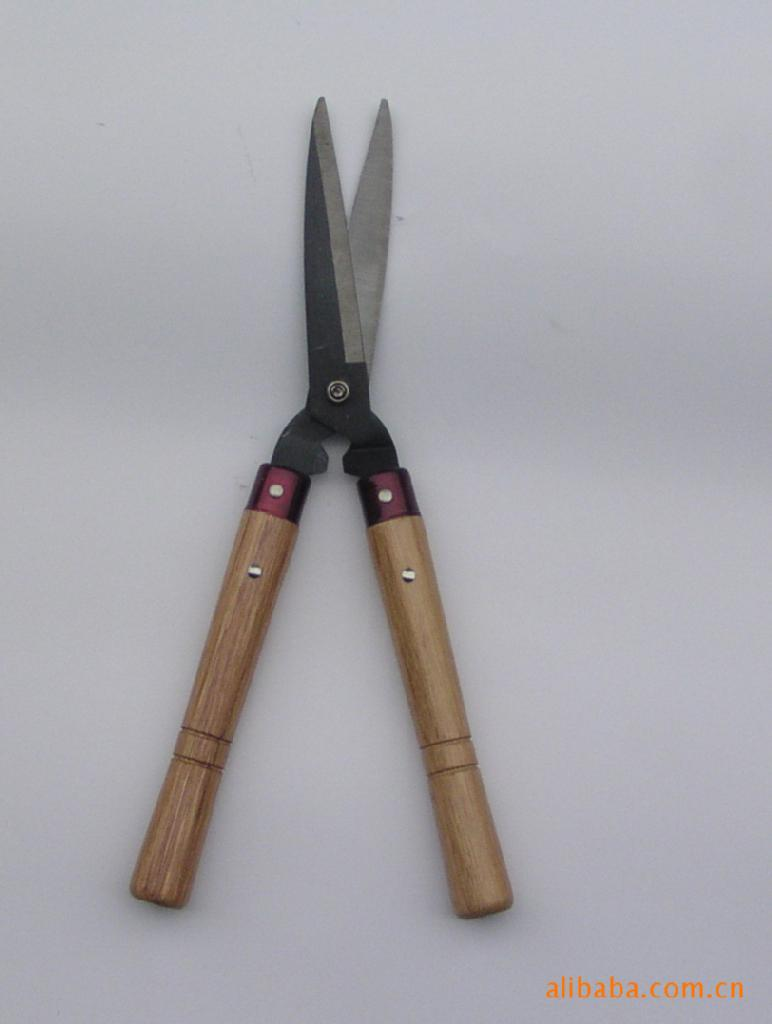scissor: (82, 64, 581, 898)
